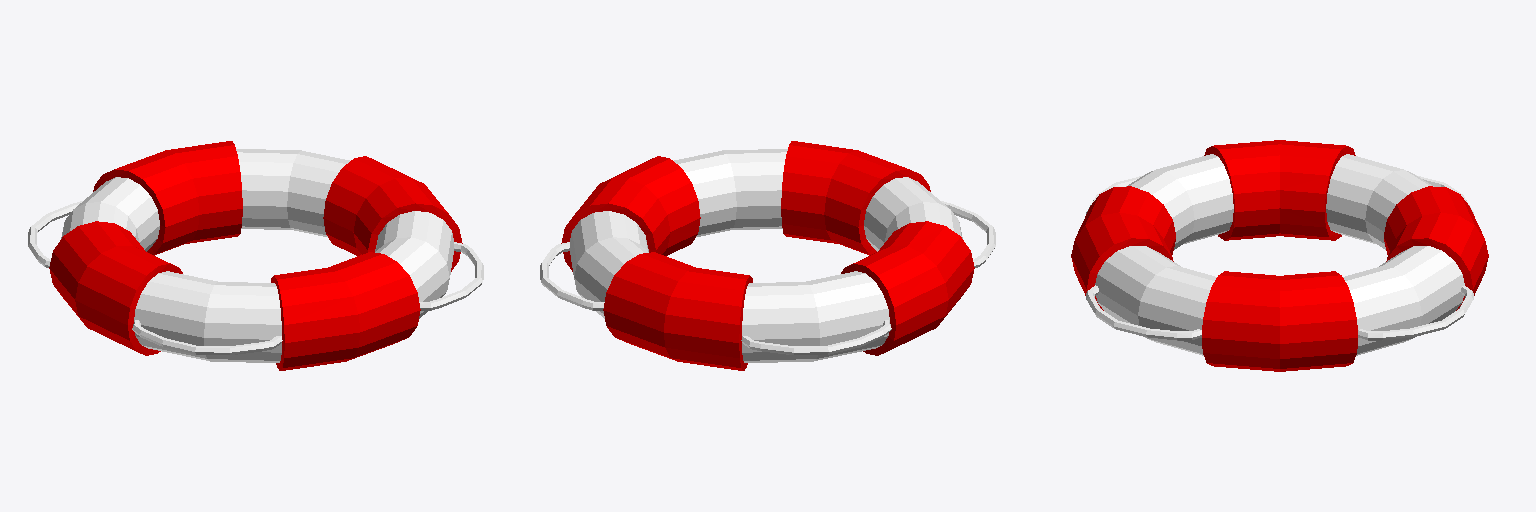
3 renders of one model, left to right at view 1: azimuth 30°, elevation 25°; view 2: azimuth 150°, elevation 25°; view 3: azimuth 270°, elevation 25°, orthographic.
Parts seen in each view (by area): view 1: Torus; view 2: Torus; view 3: Torus.
Part boxes in pixels (x1,y1,x2,y2): Torus: (28, 141, 483, 370); Torus: (540, 141, 995, 370); Torus: (1071, 140, 1488, 371).
Size of the model in its own units: 1 by 0.2307 by 1.
Materials: 1 (1 with a texture image).